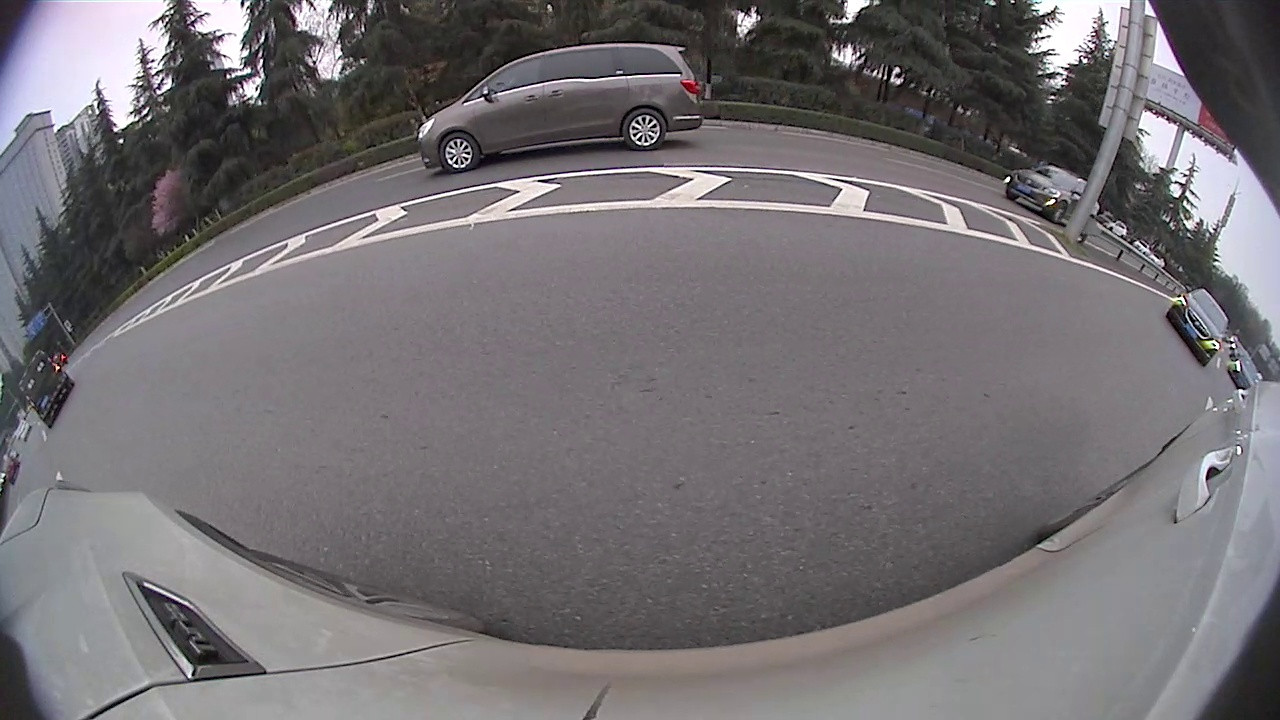car: (414, 38, 707, 174), (1002, 161, 1100, 226), (1163, 285, 1232, 367), (15, 347, 79, 429)
front: (440, 133, 478, 173), (1051, 201, 1069, 223)
rear: (624, 109, 665, 150)
